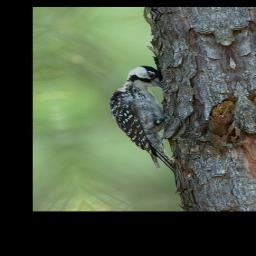Woodpecker: (97, 64, 190, 178)
